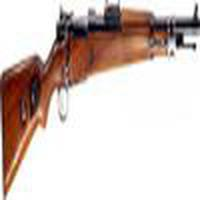gun: (1, 8, 200, 166)
